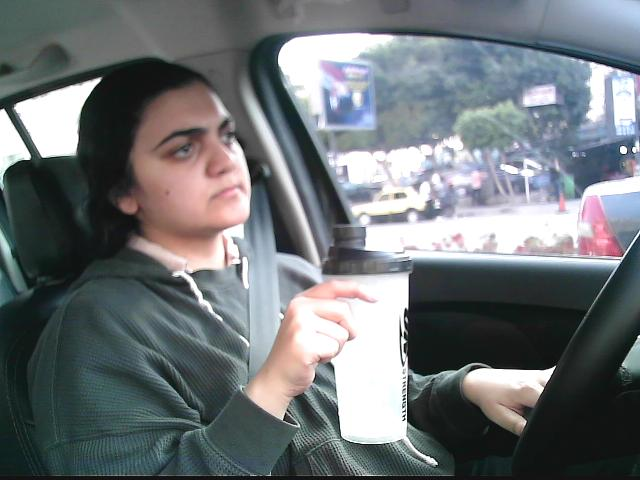Drinking: (320, 221, 417, 449)
